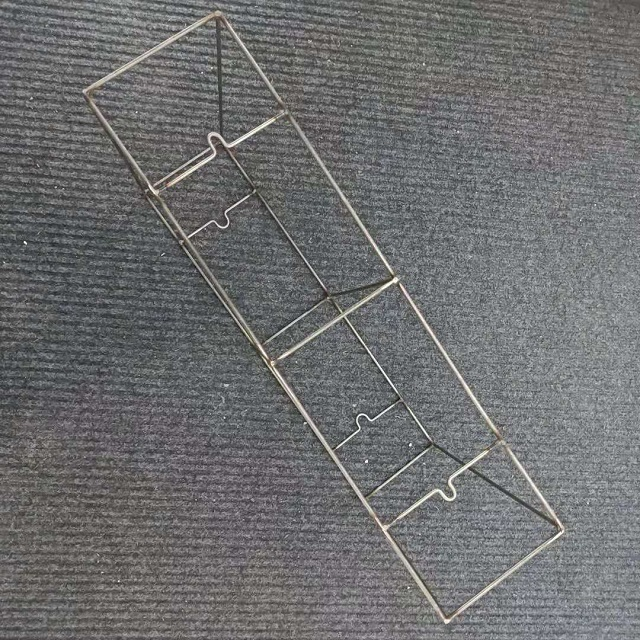curvedhole: (183, 122, 239, 164), (421, 465, 467, 515), (199, 202, 239, 238), (343, 404, 383, 437)
